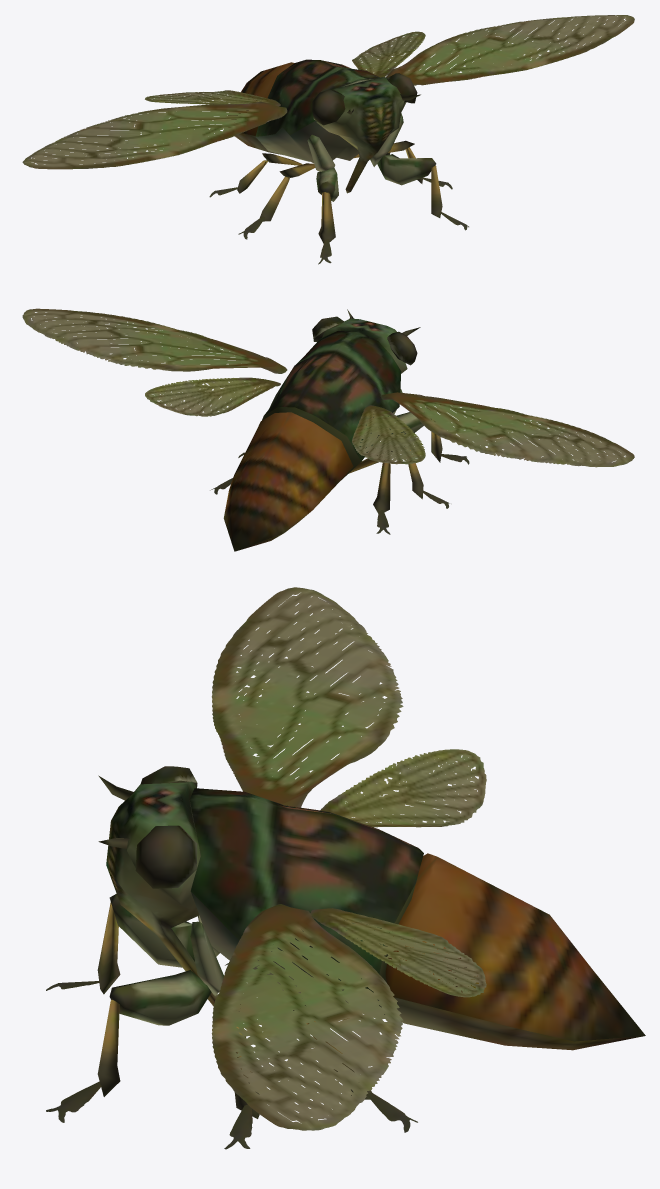
File: evening-cicada.glb
The picture shows the model from 3 angles, top to bottom: view 1: azimuth 30°, elevation 25°; view 2: azimuth 150°, elevation 25°; view 3: azimuth 270°, elevation 25°; orthographic projection. The views are drawn at different scales.
Bounding box in the file's own units: 5.94 × 1.37 × 2.84.
Materials: 2 (2 with a texture image).
